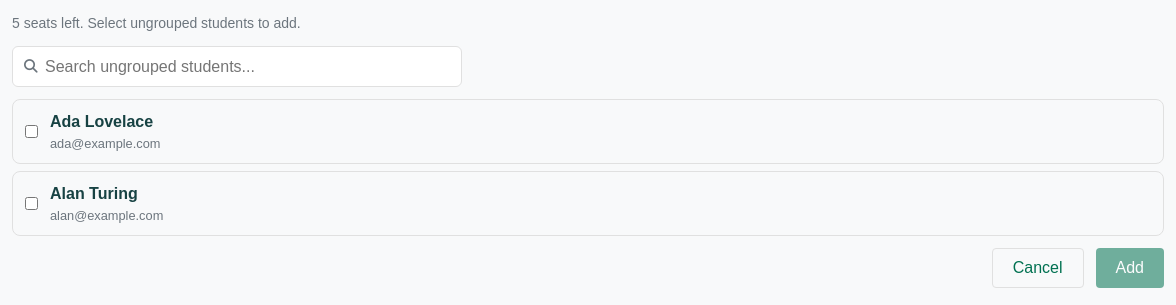
Test: GroupAddStudents › unticking a student removes them from the selection
Step 1. Click the checkbox labelled "Ada Lovelace ada@example.com" → point(32, 132), box [25,125,38,138]
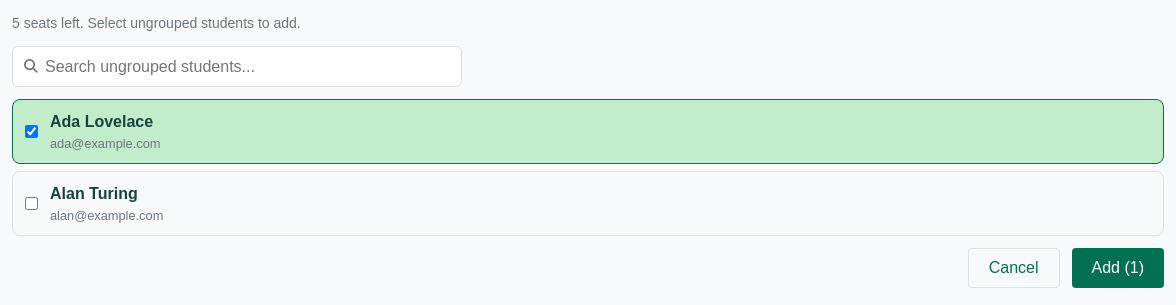
Step 2. Click the checkbox labelled "Alan Turing alan@example.com" → point(32, 204), box [25,197,38,210]
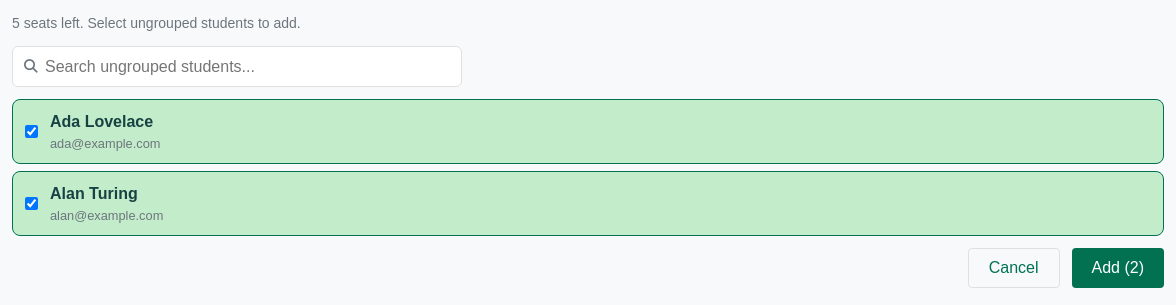
Step 3. Click the checkbox labelled "Ada Lovelace ada@example.com" → point(32, 132), box [25,125,38,138]
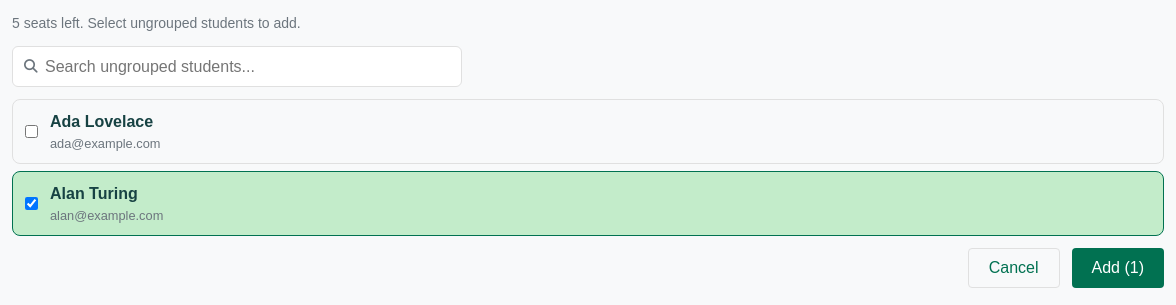
Check: the button "Add (1)" is shown, box [1072,248,1164,288]
